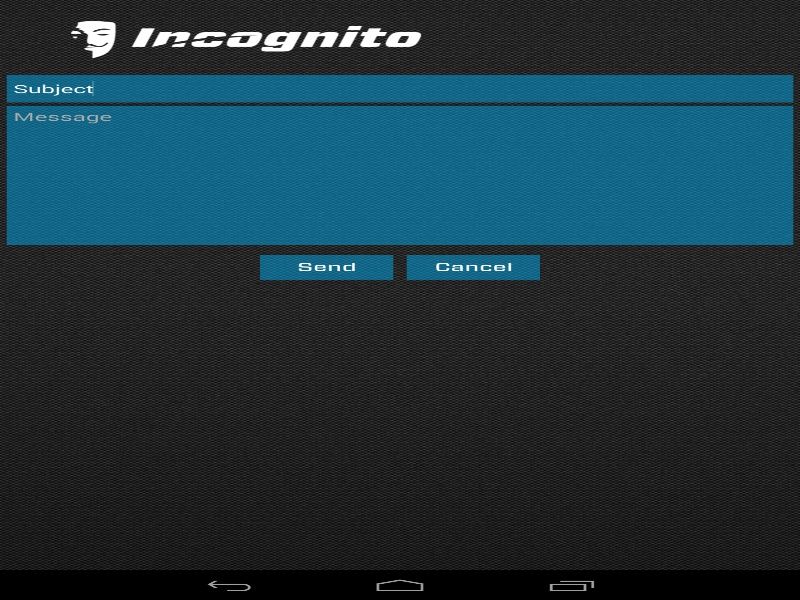Input: (6, 105, 793, 245), (6, 75, 793, 102)
